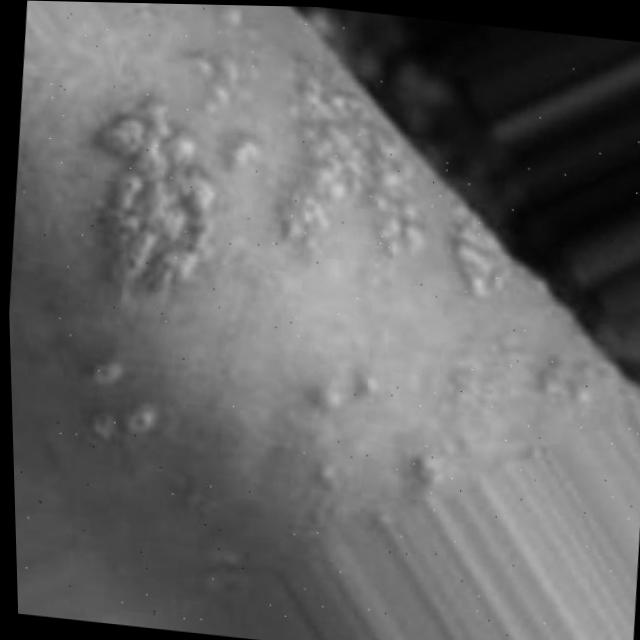Shingles: (69, 5, 555, 350), (74, 365, 159, 442)
